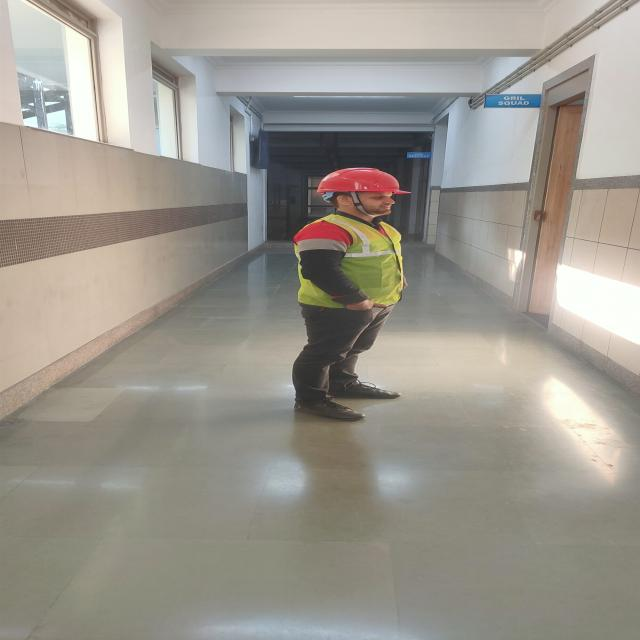safe: (291, 164, 405, 421)
